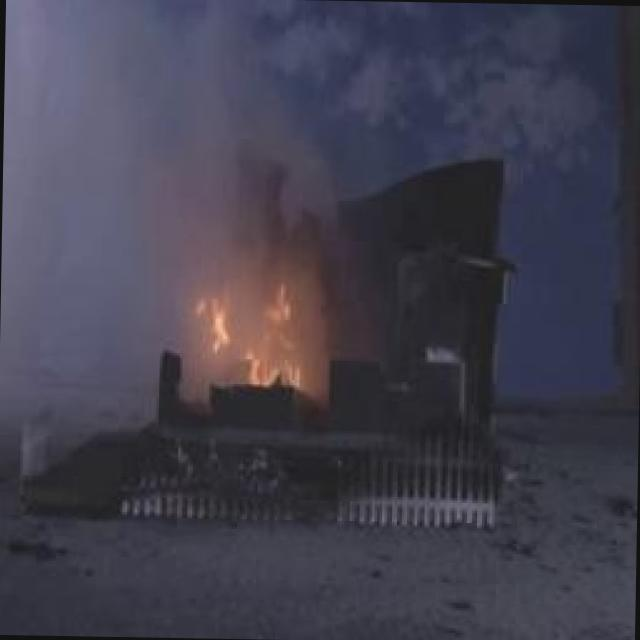fire: (188, 244, 336, 399)
smoke: (2, 0, 201, 249)
